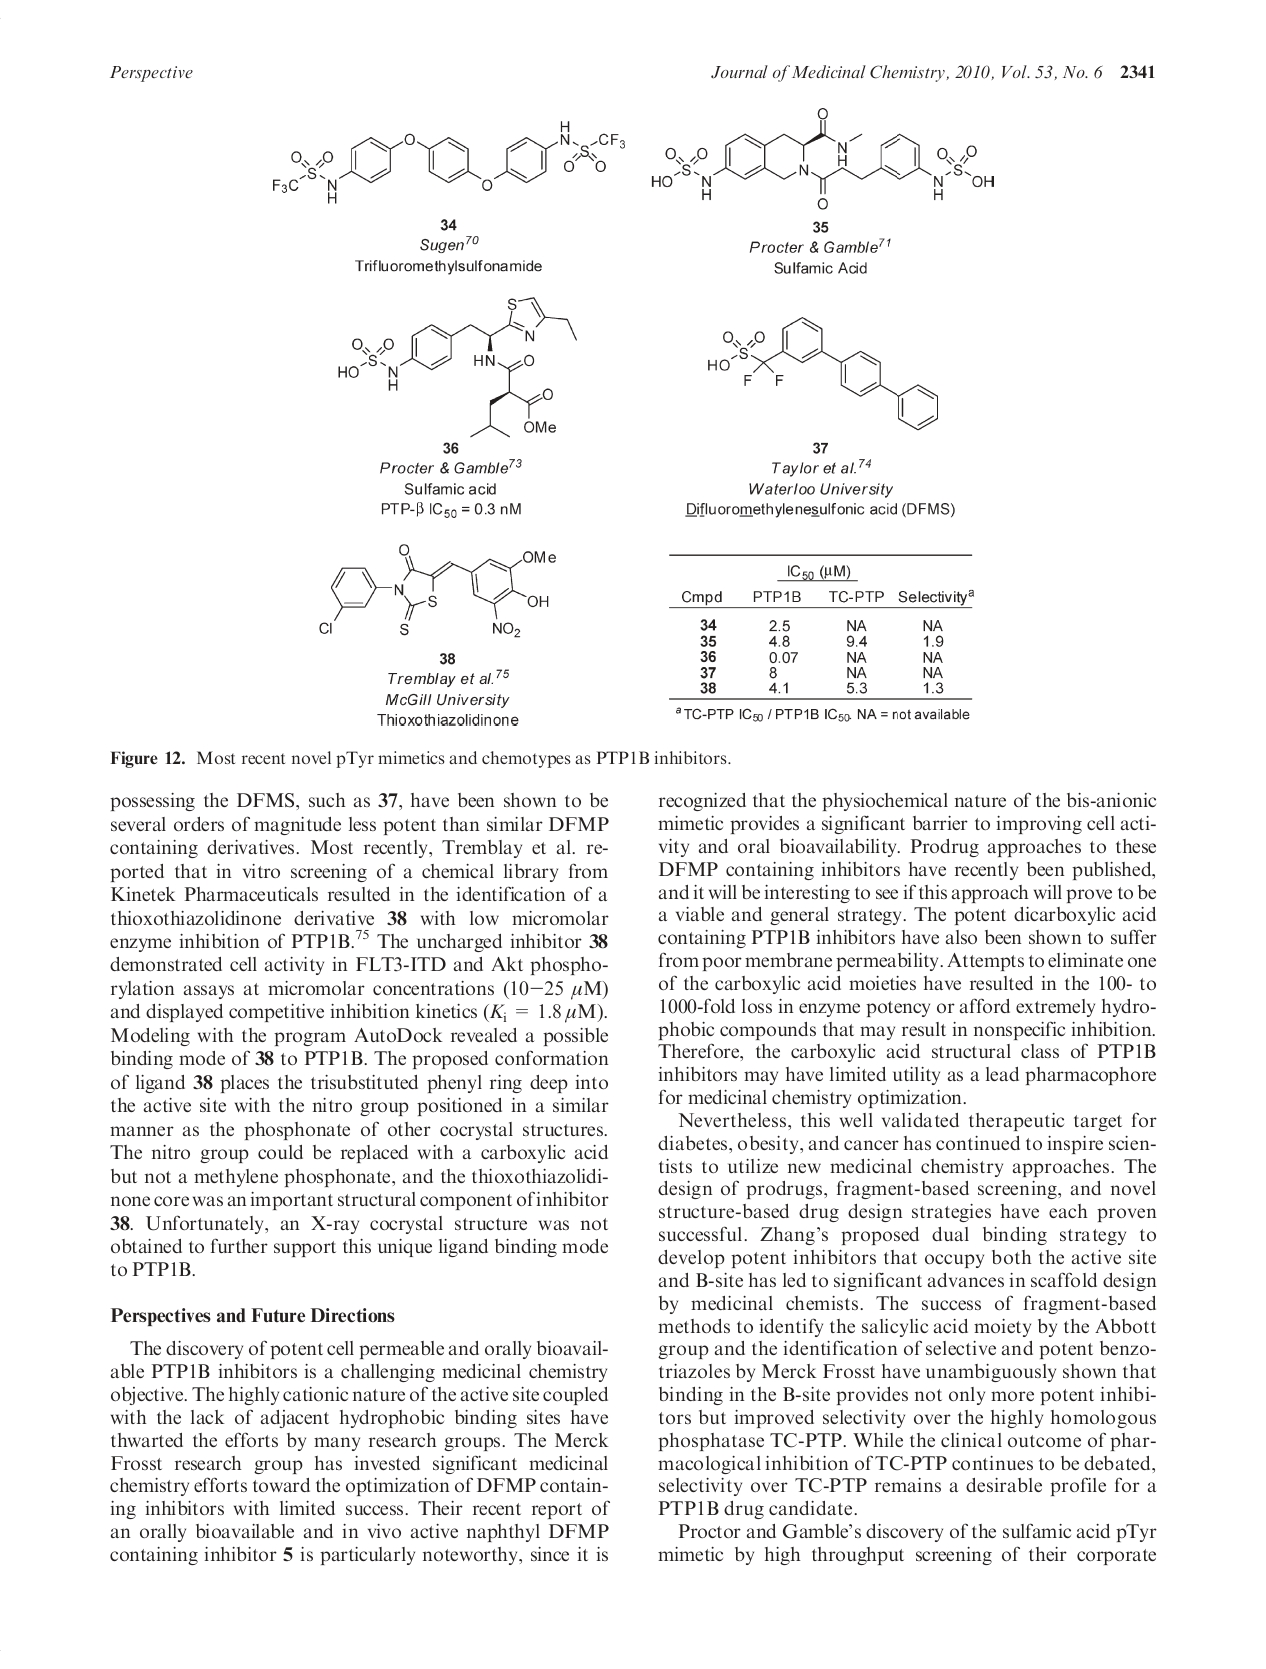exist_molecular: (648, 106, 997, 211), (335, 294, 578, 439), (269, 117, 626, 207), (706, 315, 942, 432), (318, 543, 559, 640)
